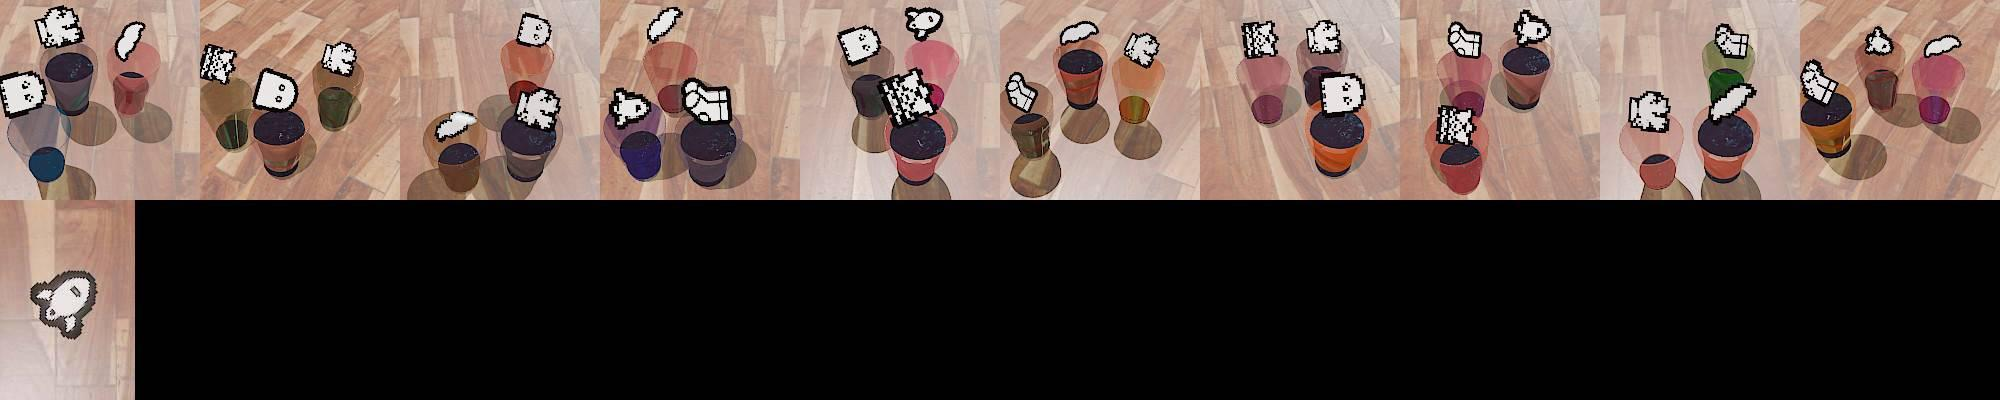icon: (27, 268, 98, 339), (878, 68, 939, 124), (681, 75, 735, 125), (0, 70, 47, 118), (1318, 71, 1366, 118), (33, 5, 84, 50), (513, 85, 562, 130), (1626, 89, 1672, 134), (253, 68, 298, 112), (1707, 80, 1756, 121), (1798, 59, 1842, 104), (1436, 102, 1478, 146), (608, 87, 653, 127), (837, 24, 881, 65), (199, 43, 237, 84), (1513, 9, 1551, 48), (1122, 31, 1161, 69), (1305, 18, 1343, 55), (1448, 20, 1485, 59), (1242, 20, 1279, 59), (320, 39, 357, 78), (515, 11, 554, 48), (904, 6, 944, 42), (1006, 70, 1038, 113), (645, 6, 682, 43), (434, 110, 478, 140), (114, 20, 145, 62), (1714, 23, 1750, 59), (1059, 19, 1099, 46), (1922, 33, 1960, 59), (1865, 25, 1894, 55)
